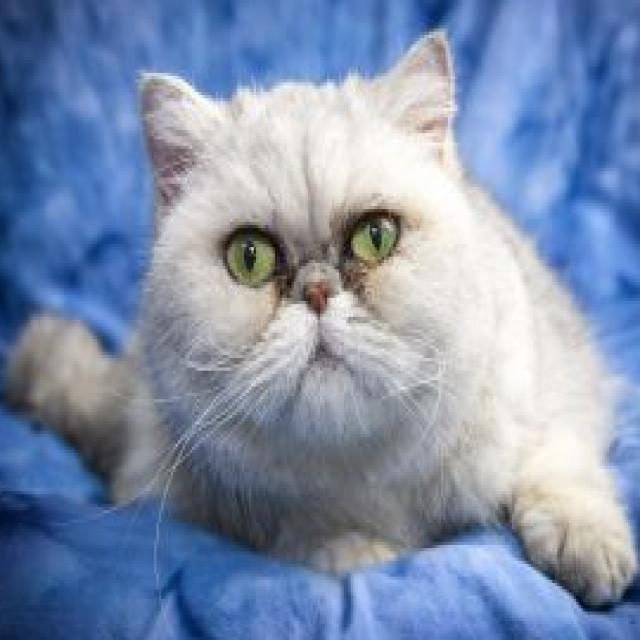Persian: (2, 25, 640, 618)
